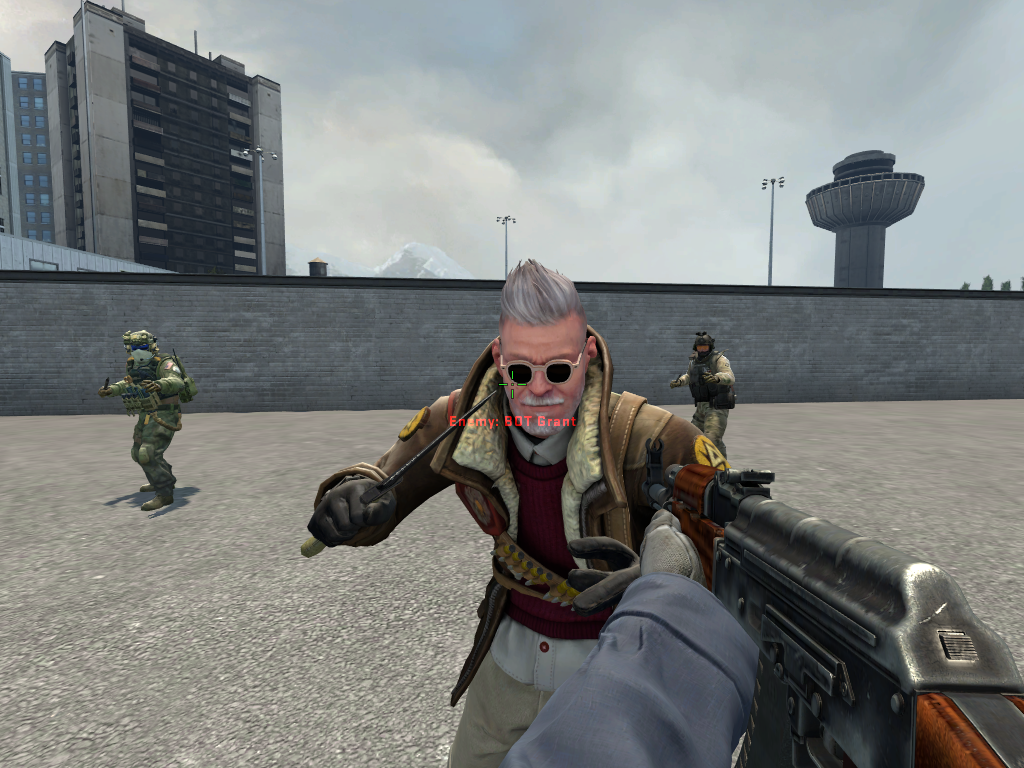ct head: (124, 330, 157, 367), (693, 331, 715, 360)
tr head: (488, 256, 601, 439)
